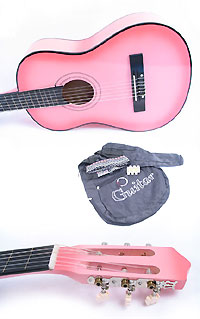guitar: (1, 11, 193, 133), (1, 246, 187, 304)
